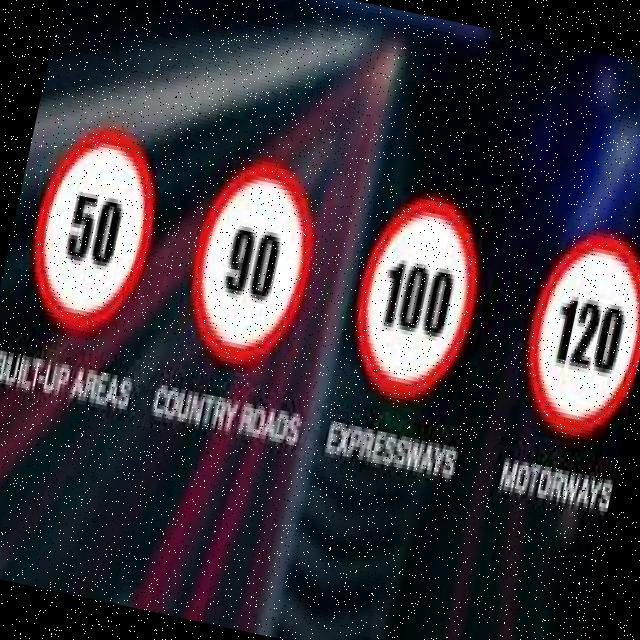speed_limit_100: (332, 182, 498, 414)
speed_limit_120: (501, 217, 640, 453)
speed_limit_50: (8, 112, 179, 354)
